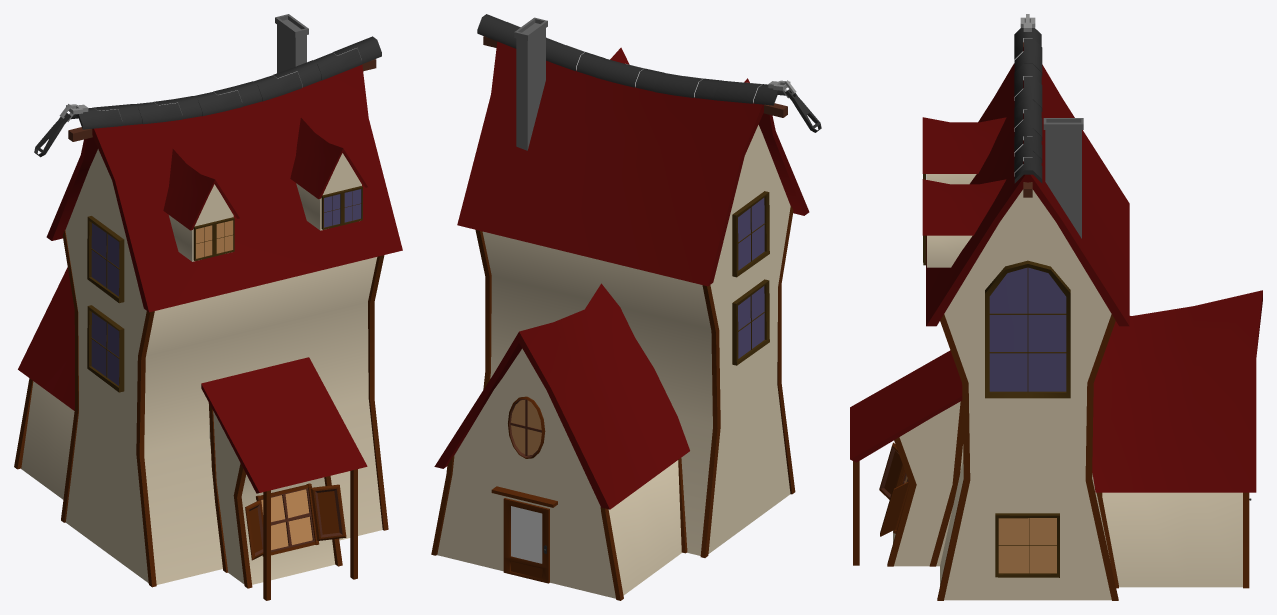
File: HouseVariation.7.fbx
3 views of the same model, side by side, from view 1: azimuth 30°, elevation 25°; view 2: azimuth 150°, elevation 25°; view 3: azimuth 270°, elevation 25° (orthographic).
Parts seen in each view (by area): view 1: Cube.003, Cube.014, Cube.018, Cube.263, Cube.127, Cube.017, JanelasPequenas.013, Cube.042, Cube.043, Cube.041, Janela.040, Janela.039 (+11 smaller); view 2: Cube.014, Cube.003, Cube.043, Cube.042, Cube.263, Cube.127, PortaPresset.020, Cube.068, Janela.039, Janela.040, Cube.100, JanelasRedondas.008 (+1 smaller); view 3: Cube.003, Cube.042, Cube.014, Cube.043, Janela.050, Cube.017, Cube.018, Cube.263, Janela.051, Cube.127, Cube.038, Cube.041 (+7 smaller).
Boxes of the visible parts, bbox=[...] form: Cube.003: bbox=[65, 149, 382, 584]; Cube.014: bbox=[46, 64, 402, 312]; Cube.018: bbox=[201, 357, 367, 493]; Cube.263: bbox=[34, 36, 381, 157]; Cube.127: bbox=[61, 230, 388, 587]; Cube.017: bbox=[209, 411, 335, 584]; JanelasPequenas.013: bbox=[245, 483, 346, 560]; Cube.042: bbox=[18, 267, 74, 410]; Cube.043: bbox=[21, 381, 74, 499]; Cube.041: bbox=[290, 118, 367, 199]; Janela.040: bbox=[87, 216, 124, 303]; Janela.039: bbox=[87, 305, 124, 392]; Cube.014: bbox=[457, 41, 809, 286]; Cube.003: bbox=[482, 125, 790, 555]; Cube.043: bbox=[437, 348, 681, 598]; Cube.042: bbox=[434, 283, 689, 509]; Cube.263: bbox=[477, 14, 821, 132]; Cube.127: bbox=[475, 206, 795, 557]; PortaPresset.020: bbox=[503, 498, 549, 583]; Cube.068: bbox=[514, 17, 547, 150]; Janela.039: bbox=[732, 279, 769, 365]; Janela.040: bbox=[732, 191, 769, 277]; Cube.100: bbox=[431, 456, 687, 600]; JanelasRedondas.008: bbox=[508, 396, 545, 458]; Cube.003: bbox=[940, 189, 1111, 600]; Cube.042: bbox=[1092, 290, 1262, 492]; Cube.014: bbox=[926, 47, 1129, 326]; Cube.043: bbox=[1102, 492, 1242, 587]; Janela.050: bbox=[985, 260, 1070, 398]; Cube.017: bbox=[893, 401, 963, 566]; Cube.018: bbox=[850, 350, 962, 462]; Cube.263: bbox=[1014, 14, 1042, 183]; Janela.051: bbox=[995, 513, 1059, 577]; Cube.127: bbox=[937, 314, 1118, 600]; Cube.038: bbox=[922, 117, 1006, 173]; Cube.041: bbox=[922, 179, 1006, 235].
Bounding box in the file's own units: 1192 × 1572 × 1267.
